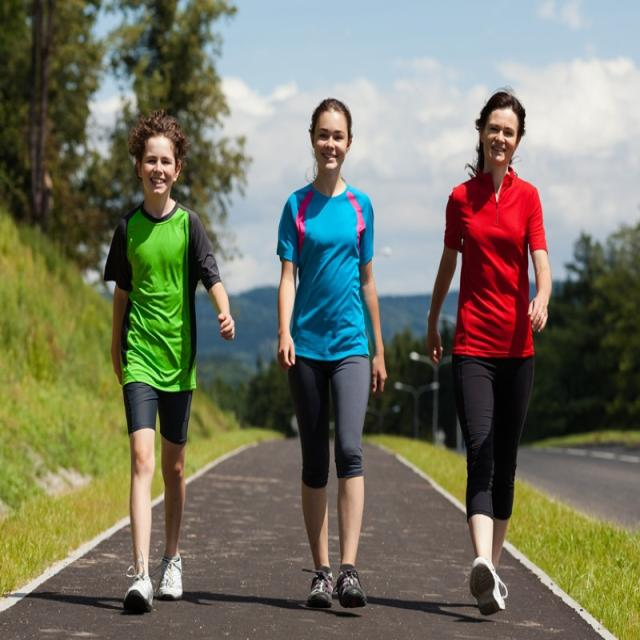Person: (104, 111, 235, 612), (429, 92, 552, 616), (276, 96, 386, 609)
